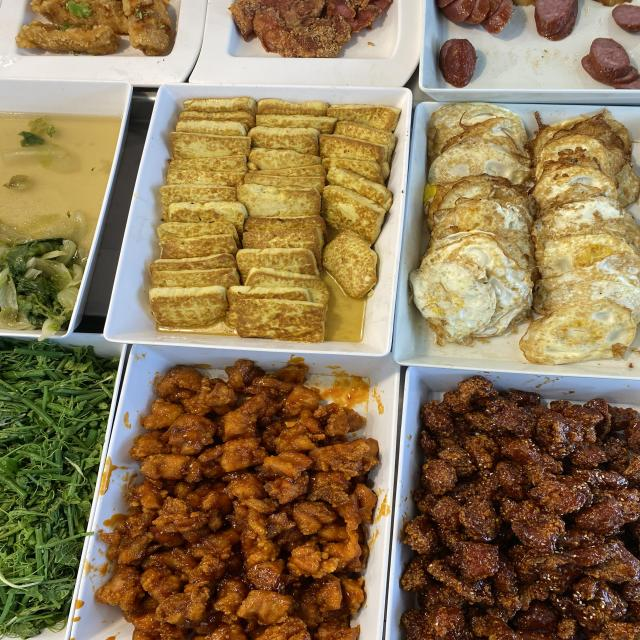Pan Fried Tofu: (187, 101, 364, 334)
